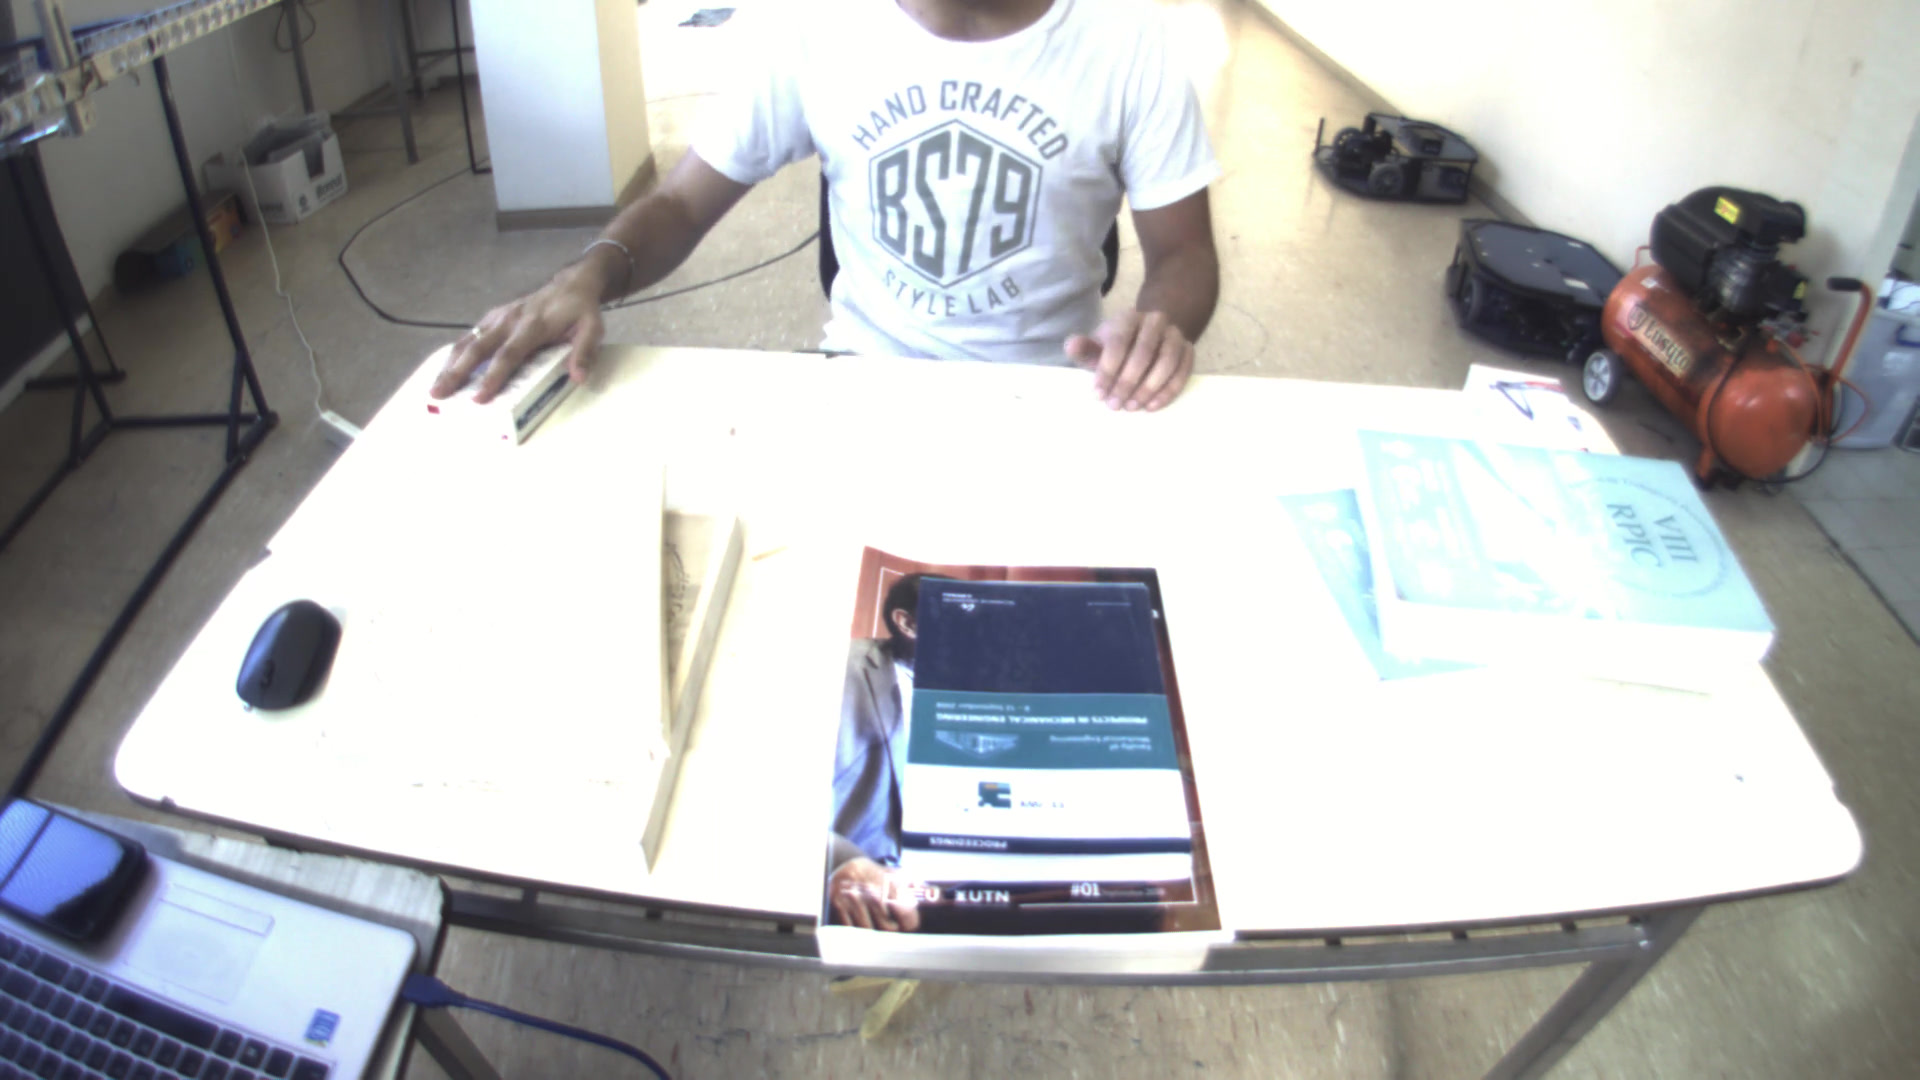hand: (414, 243, 615, 436), (1068, 285, 1209, 411)
